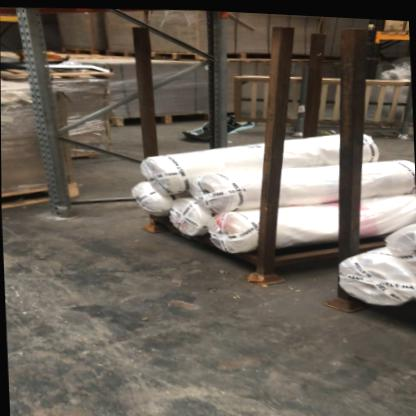vertical_damage: (42, 194, 86, 227)
